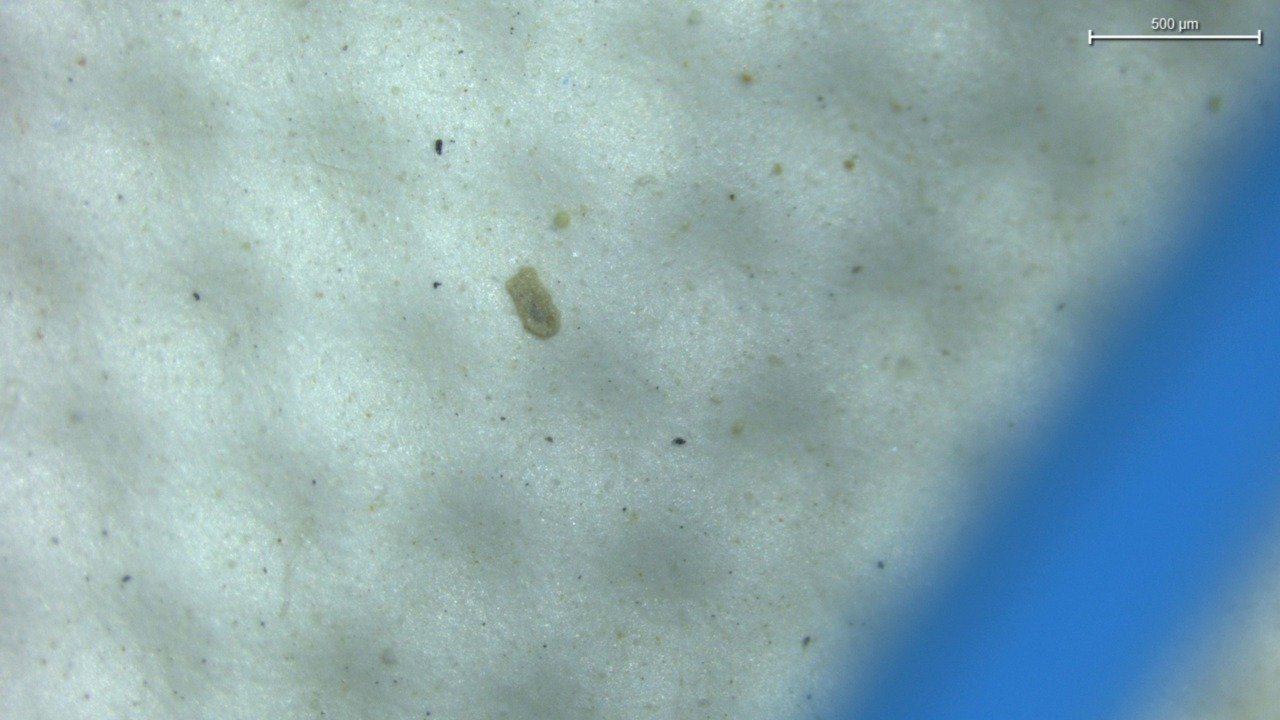microplastic_fragment: (506, 266, 561, 338)
